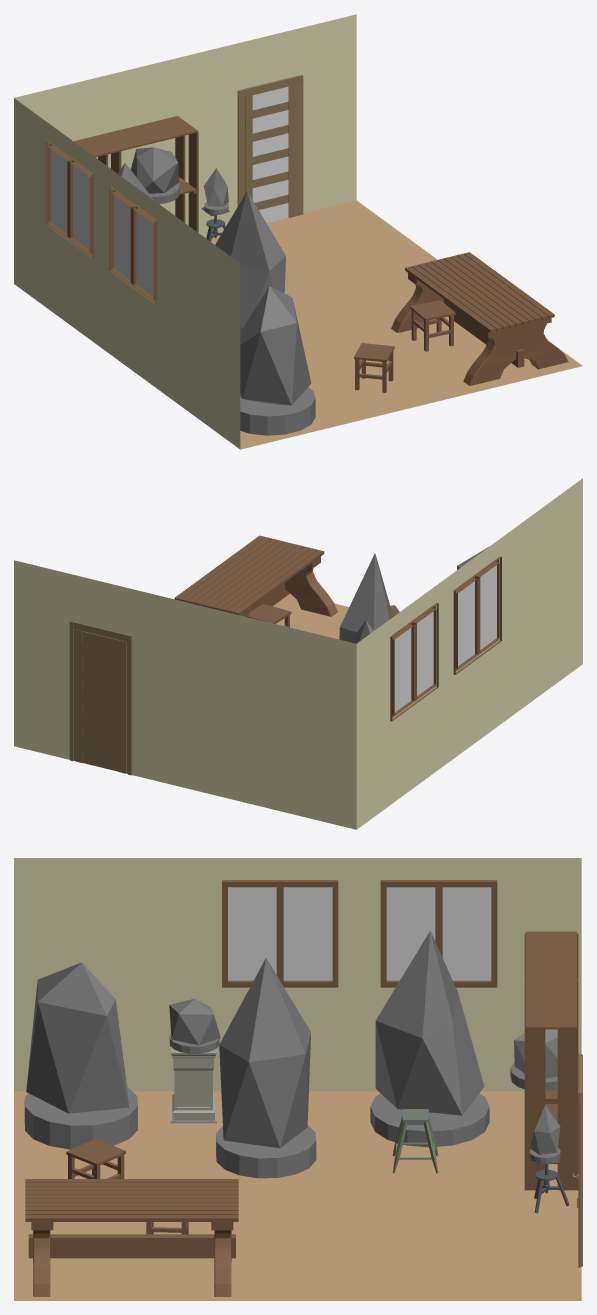
File: Room_1.fbx
3 renders of one model, top to bottom at view 1: azimuth 30°, elevation 25°; view 2: azimuth 150°, elevation 25°; view 3: azimuth 270°, elevation 25°, orthographic. The views are drawn at different scales.
Parts seen in each view (by area): view 1: Plane.001, Cube.005, Cylinder.007, Plane.002, Cylinder.003, Cube.003, Cube.001, Cube.004, Cylinder.006, Cube.006, Cube.002, Cylinder.004; view 2: Plane.001, Plane.002, Cube.005, Cube.001, Cube.004, Cylinder.003, Cube.006; view 3: Plane.001, Cylinder.001, Cylinder.003, Cube.005, Cylinder.007, Cube.001, Cube.003, Cube.004, Plane, Cylinder.005, Cube.002, Cylinder.006 (+4 smaller).
Boxes of the visible parts, <box> form: Plane.001: <box>14,14,582,449</box>; Cube.005: <box>391,252,568,385</box>; Cylinder.007: <box>240,286,315,435</box>; Plane.002: <box>237,75,303,223</box>; Cylinder.003: <box>215,191,285,331</box>; Cube.003: <box>74,116,198,232</box>; Cube.001: <box>109,186,157,304</box>; Cube.004: <box>45,140,93,258</box>; Cylinder.006: <box>130,147,179,204</box>; Cube.006: <box>410,300,455,351</box>; Cube.002: <box>354,343,394,392</box>; Cylinder.004: <box>204,168,228,214</box>; Plane.001: <box>14,478,582,829</box>; Plane.002: <box>69,621,132,775</box>; Cube.005: <box>174,535,337,616</box>; Cube.001: <box>453,556,501,674</box>; Cube.004: <box>390,603,438,721</box>; Cylinder.003: <box>339,553,392,641</box>; Cube.006: <box>247,603,291,627</box>; Plane.001: <box>14,858,581,1300</box>; Cylinder.001: <box>370,930,489,1147</box>; Cylinder.003: <box>216,958,316,1178</box>; Cube.005: <box>25,1179,238,1296</box>; Cylinder.007: <box>24,962,137,1149</box>; Cube.001: <box>222,880,338,987</box>; Cube.003: <box>524,931,578,1190</box>; Cube.004: <box>380,880,497,987</box>; Plane: <box>170,1047,216,1123</box>; Cylinder.005: <box>169,998,220,1053</box>; Cube.002: <box>66,1138,125,1178</box>; Cylinder.006: <box>510,1029,557,1090</box>.
Size of the model in its own units: 9399 by 4988 by 10719.
